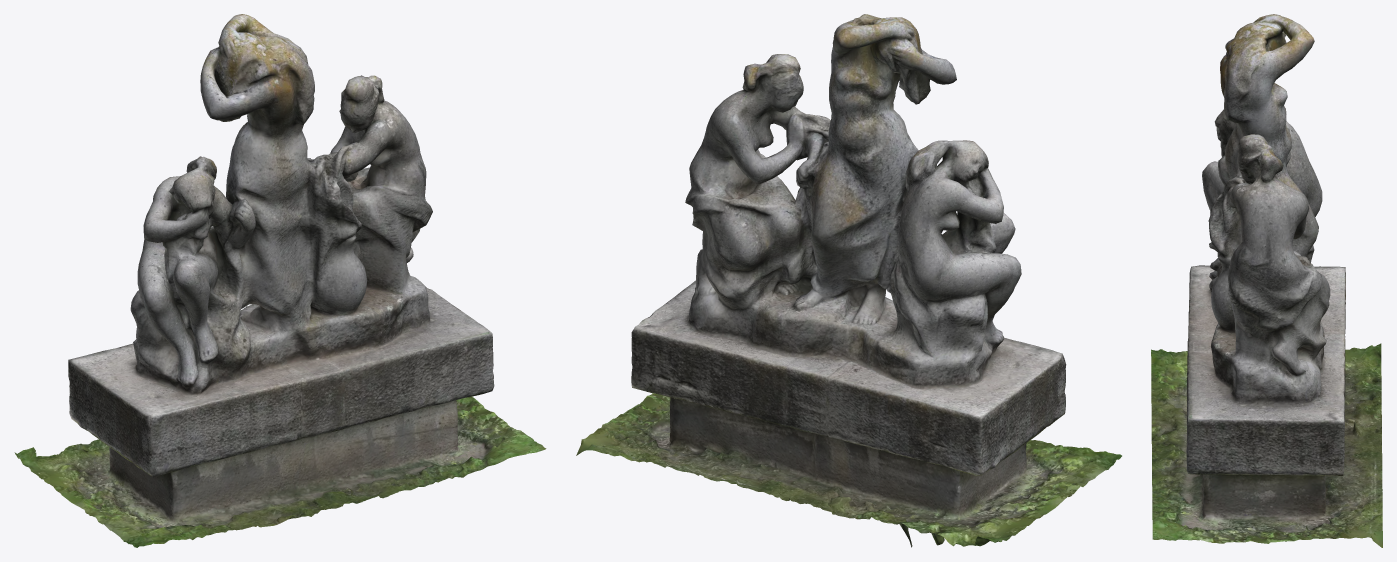
Rendered from preview.glb.
The picture shows the model from 3 angles, left to right: view 1: azimuth 30°, elevation 25°; view 2: azimuth 150°, elevation 25°; view 3: azimuth 270°, elevation 25°; orthographic projection. The views are drawn at different scales.
Visible parts, largest first — view 1: socha_park_28_rijen_baked_socha_socha_park_28_rijen_0; view 2: socha_park_28_rijen_baked_socha_socha_park_28_rijen_0; view 3: socha_park_28_rijen_baked_socha_socha_park_28_rijen_0.
Part boxes in pixels (x1,y1,x2,y2): socha_park_28_rijen_baked_socha_socha_park_28_rijen_0: [14, 14, 546, 547]; socha_park_28_rijen_baked_socha_socha_park_28_rijen_0: [576, 14, 1121, 547]; socha_park_28_rijen_baked_socha_socha_park_28_rijen_0: [1151, 14, 1382, 547].
Size of the model in its own units: 3.03 by 3.21 by 1.57.
1 material, 1 textured.
